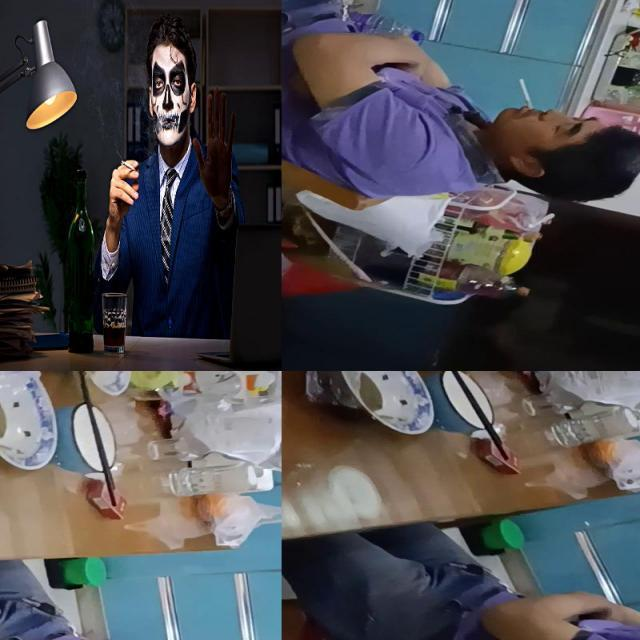cigarette: (519, 78, 532, 110), (120, 160, 140, 174)
